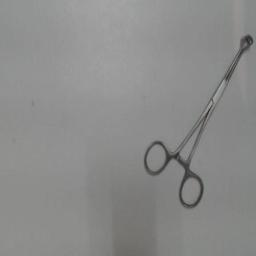Babcock Tissue Forceps: (142, 32, 254, 212)
